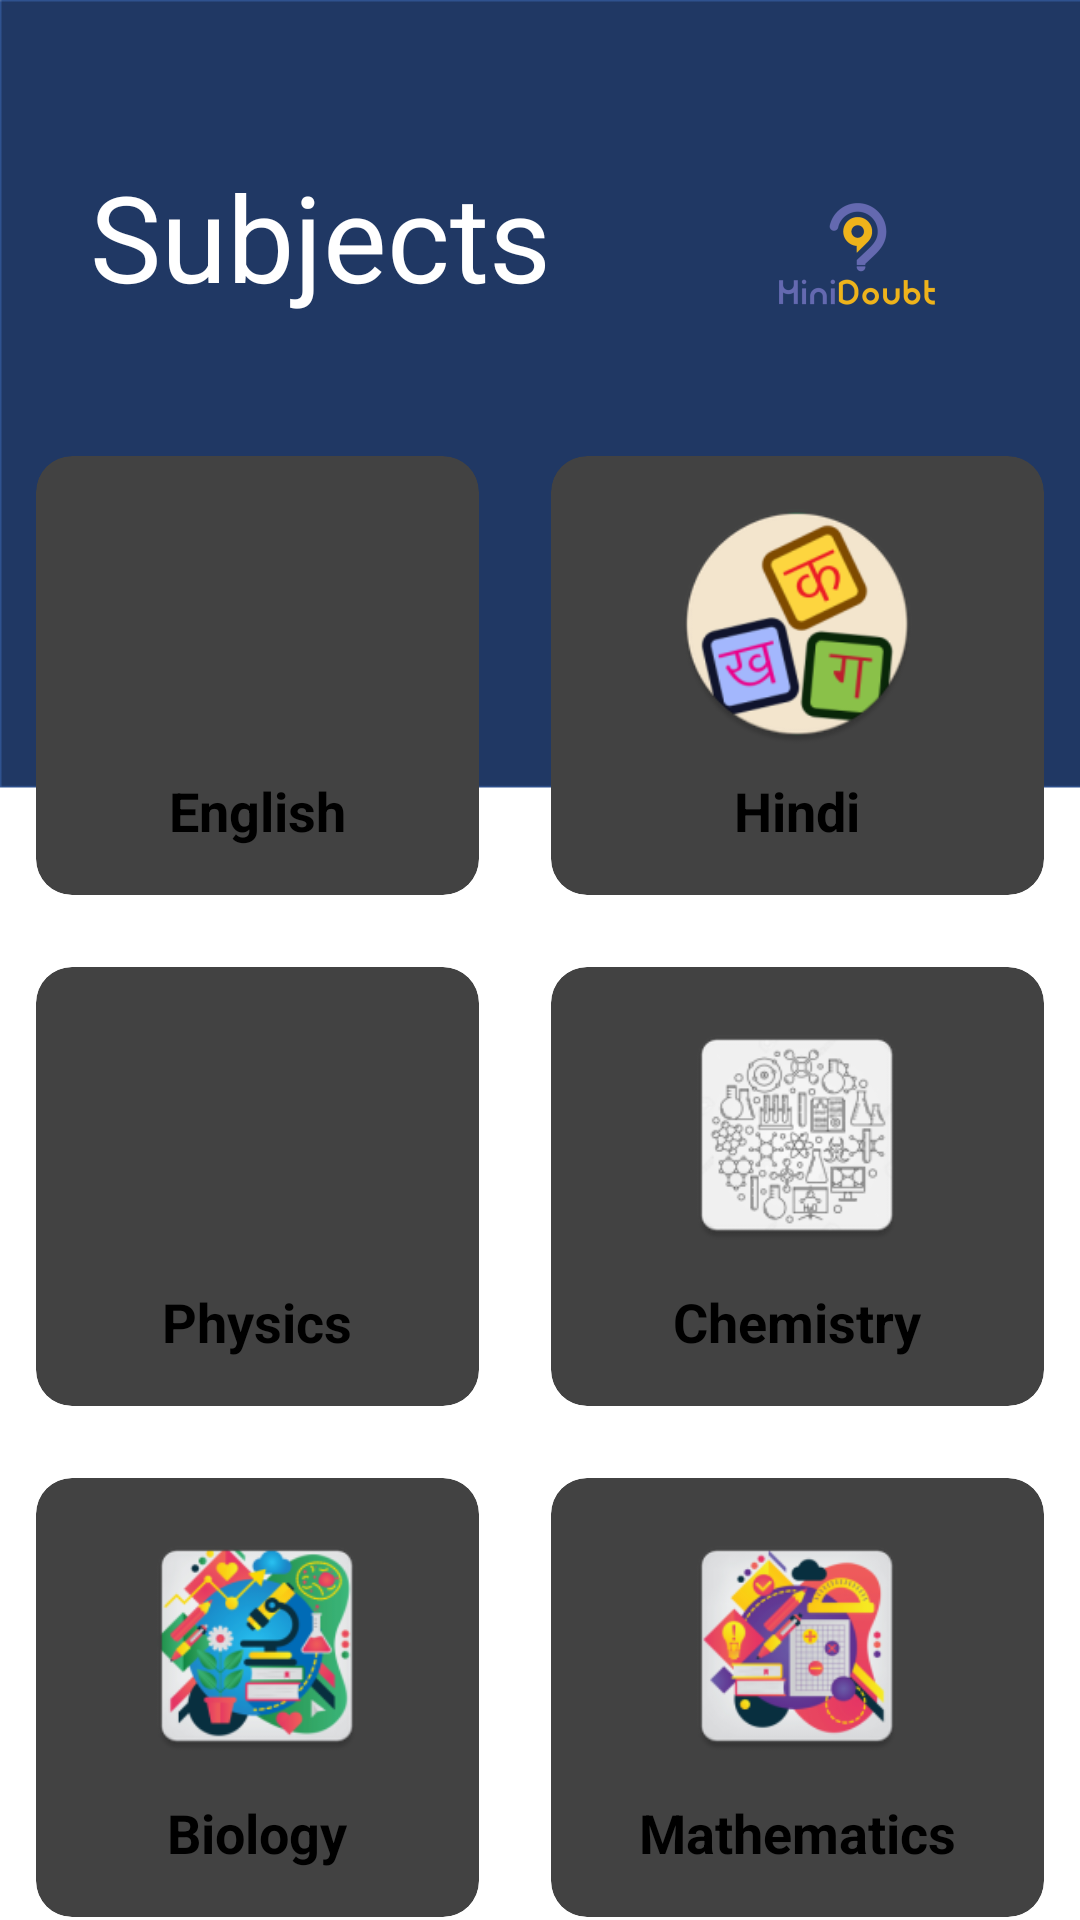

Icons on this 1080 × 1920 Android screen, each with the point to tap as [x,y]:
bio vect: [257,1646]
chem vect: [797,1135]
maths vect: [797,1645]
